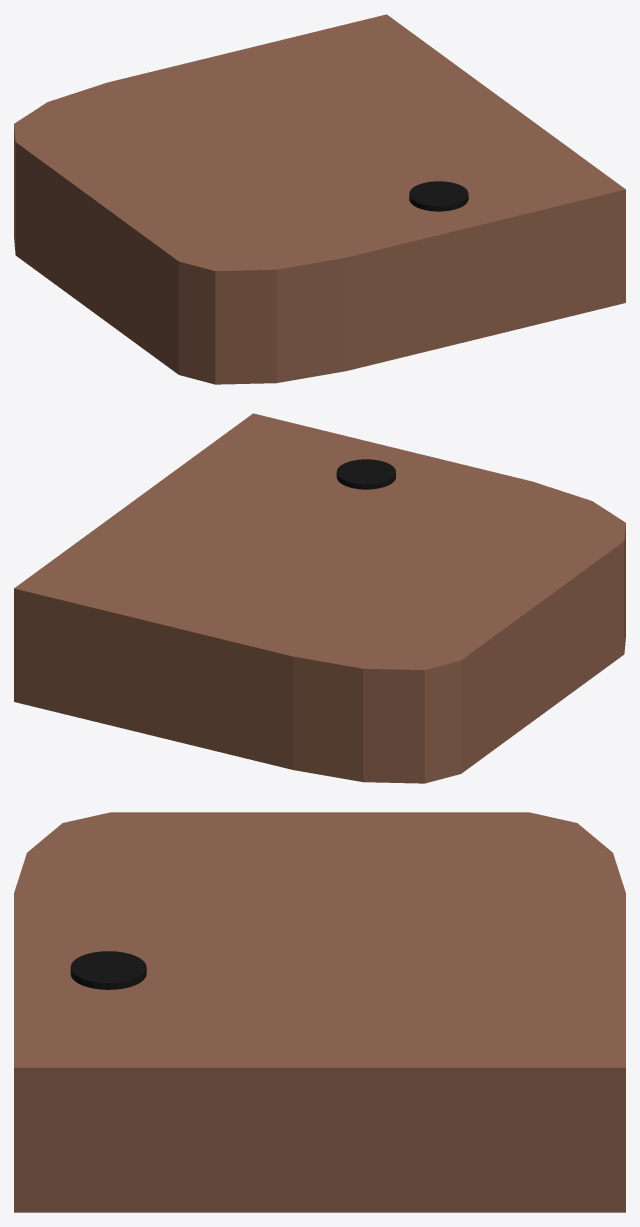
The model's file is door.fbx.
3 views of the same model, one above another, from view 1: azimuth 30°, elevation 25°; view 2: azimuth 150°, elevation 25°; view 3: azimuth 270°, elevation 25° (orthographic). The views are drawn at different scales.
Visible parts, largest first — view 1: Plane, Circle; view 2: Plane, Circle; view 3: Plane, Circle.
Boxes of the visible parts, x1,y1,x2,y2 form: Plane: (14,14,625,384); Circle: (409,181,468,211); Plane: (14,413,625,783); Circle: (336,459,395,489); Plane: (14,812,625,1212); Circle: (70,951,146,989).
Size of the model in its own units: 83.23 by 23.07 by 84.28.
